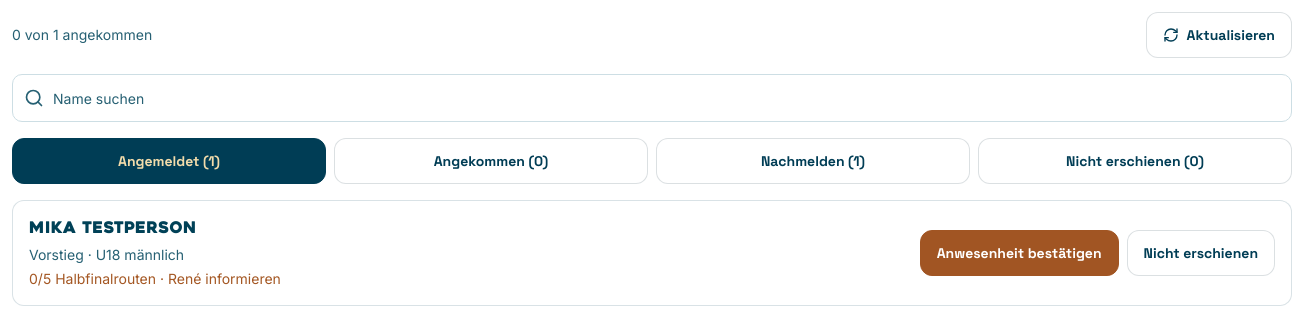
it: event attendance desk › allows a registered arrival with a route warning but blocks incomplete late registrations
Expected: the text "0/5 Halbfinalrouten · René informieren" is shown, [29,269,281,289]
Expected: the button with aria-label "Anwesenheit von Mika Testperson bestätigen" is enabled, [920,230,1119,276]
Click the button "Nachmelden (1)" at (813, 161), box [656,138,970,184]
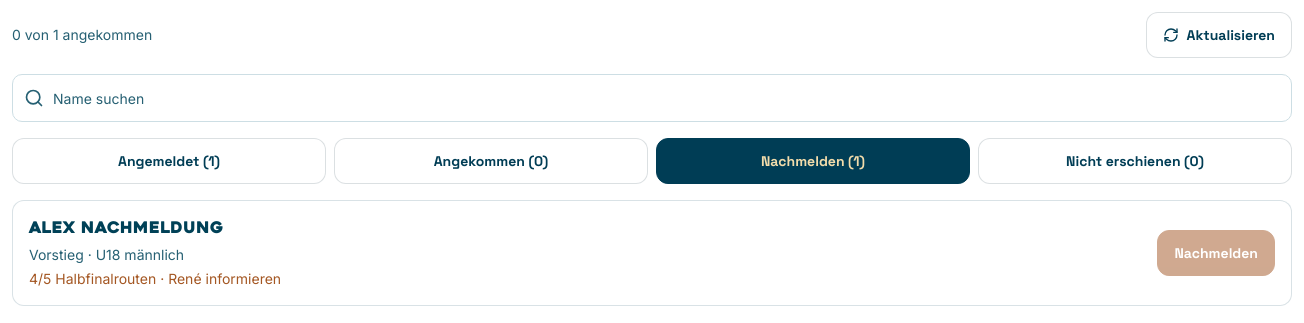
Now the button with aria-label "Alex Nachmeldung nachmelden" is disabled, box [1157,230,1275,276]
